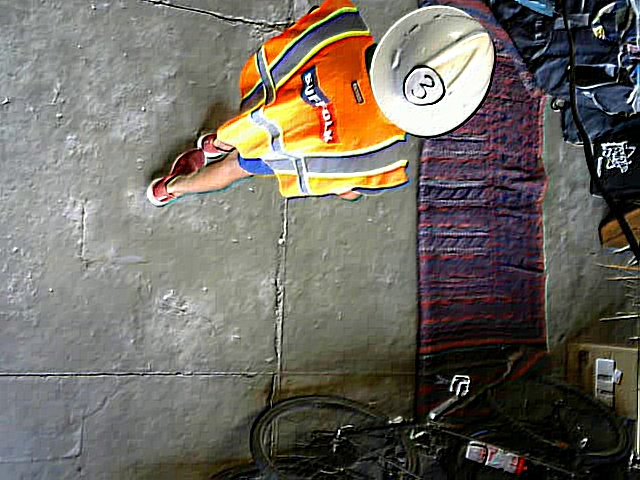three: (403, 65, 447, 106)
